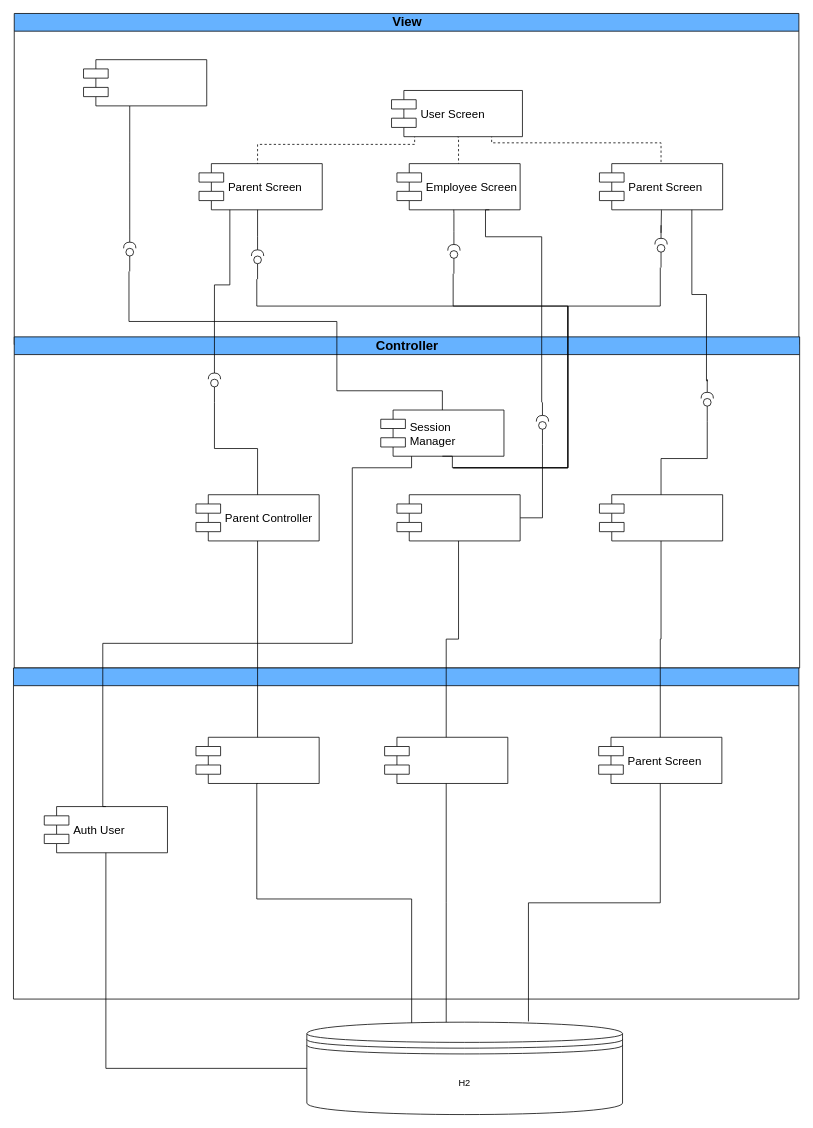
Image size: 813x1128. Some labels were removed from this diagram. Each missing label, with the box of its shape:
Admin Controller: (396, 494, 520, 541)
Admin Requests: (384, 737, 508, 783)
Employee Controller: (599, 494, 723, 541)
Login Screen: (83, 59, 207, 106)
Model: (13, 667, 799, 999)
Parent Requests: (195, 737, 319, 783)
